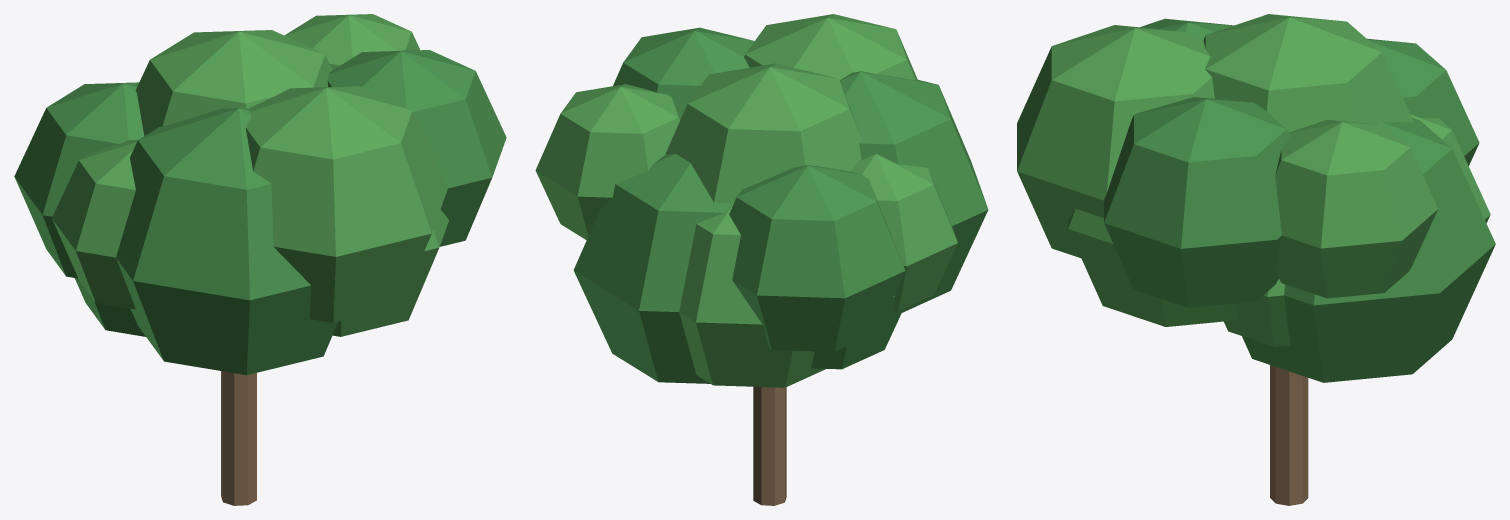
The model's file is EN_MangoTree.glb.
3 renders of one model, left to right at view 1: azimuth 30°, elevation 25°; view 2: azimuth 150°, elevation 25°; view 3: azimuth 270°, elevation 25°, orthographic. The views are drawn at different scales.
Visible parts, largest first — view 1: EN_MangoTree; view 2: EN_MangoTree; view 3: EN_MangoTree.
Part boxes in pixels (bbox=[...]): EN_MangoTree: bbox=[14, 14, 506, 505]; EN_MangoTree: bbox=[535, 14, 988, 505]; EN_MangoTree: bbox=[1017, 14, 1495, 505].
Size of the model in its own units: 9.38 by 10.5 by 9.48.
